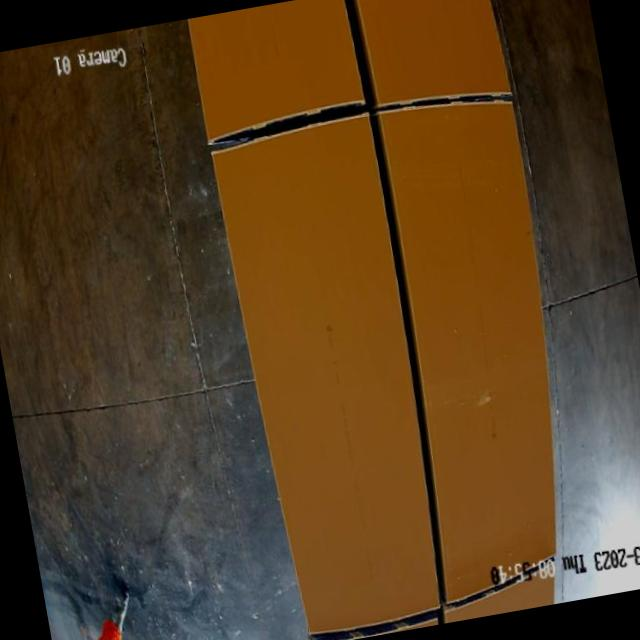person: (79, 571, 144, 640)
